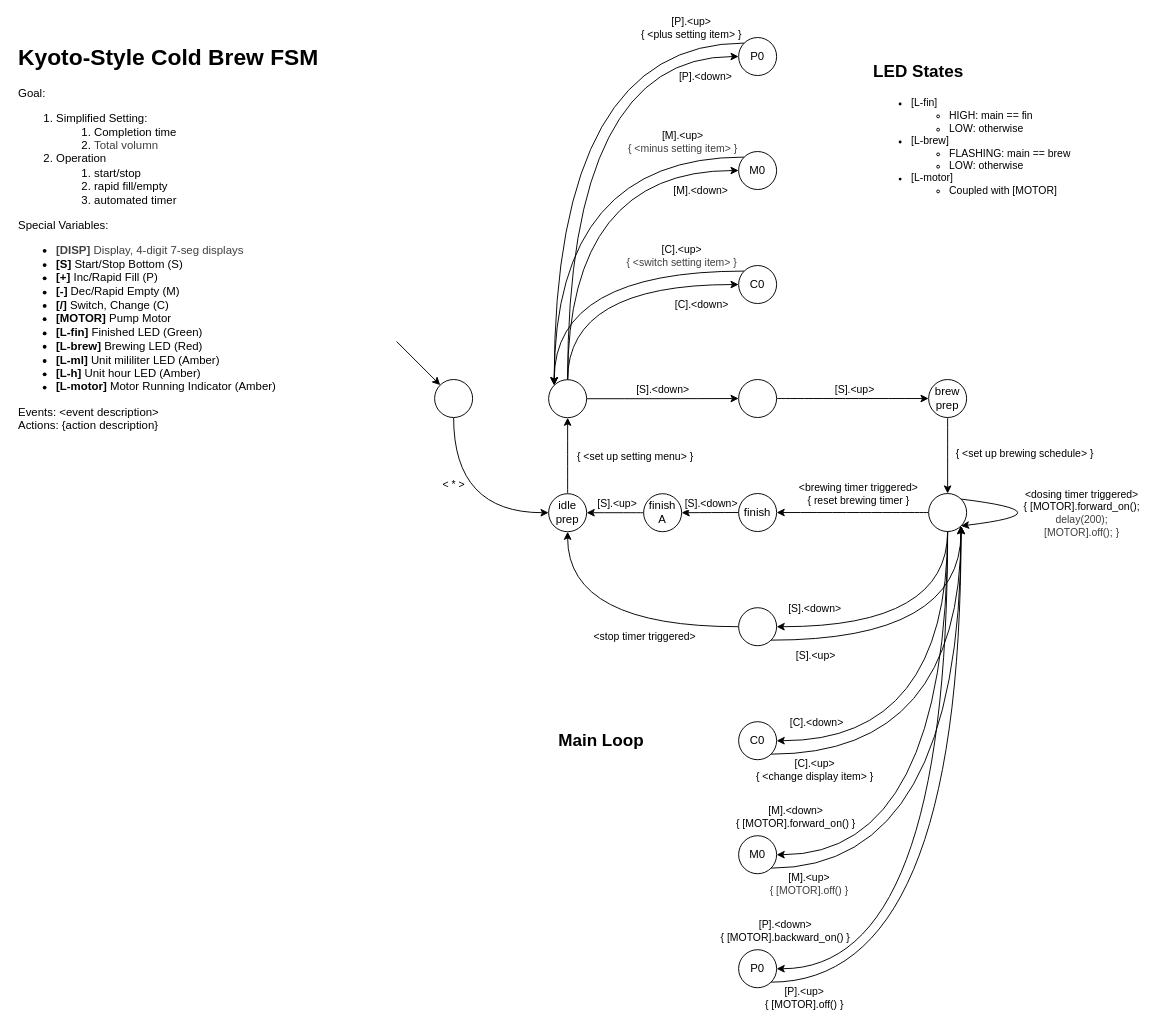
The diagram is 1156 pixels wide and 1027 high, and some of its shapes have lost their labels. Each missing label, with the centre of its shape:
brew: the point at 947,512
idle: the point at 567,398
init: the point at 453,398
S0: the point at 757,398
S1: the point at 757,626
